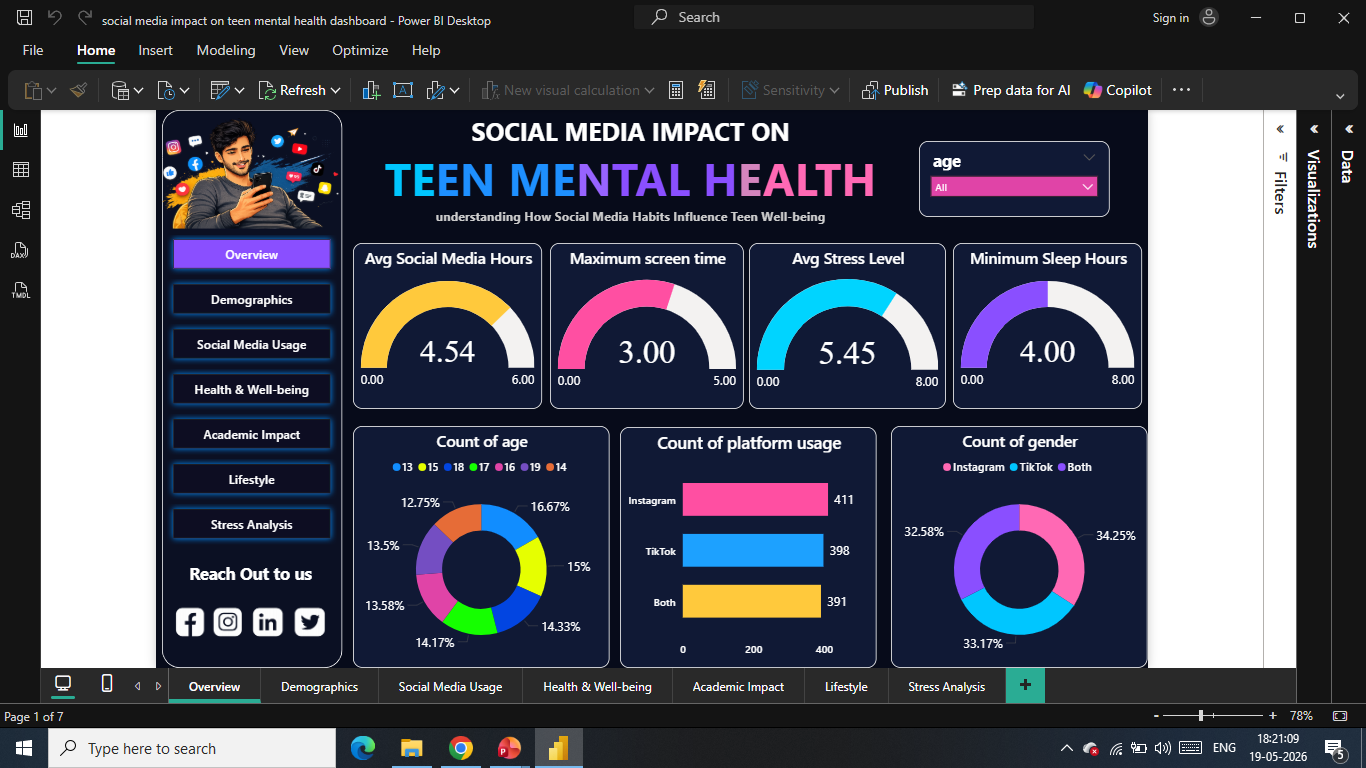

Layout of this report page (visuals, bound fields, positions):
{"tool":"powerbi","page":{"name":"Overview","canvas":[1280,720],"ordinal":0},"visuals":[{"type":"shape","box":[7.2,0,232.8,720],"z":0},{"type":"pageNavigator","box":[14.5,159,219.8,403.4],"z":1000},{"type":"textbox","box":[240,0,744.6,157.6],"z":2000},{"type":"gauge","title":"Maximum screen time","fields":{"Y":["Max(Teen_Mental_Health_Dataset.screen_time_before_sleep)"]},"box":[508.9,172,250.1,214],"z":3000},{"type":"gauge","title":"Avg Social Media Hours","fields":{"Y":["Avg(Teen_Mental_Health_Dataset.daily_social_media_hours)"]},"box":[254.5,172,244.3,214],"z":4000},{"type":"gauge","title":"Minimum Sleep Hours","fields":{"Y":["Min(Teen_Mental_Health_Dataset.sleep_hours)"]},"box":[1028,172,244.3,214],"z":5000},{"type":"donutChart","title":"Count of age","fields":{"Category":["Teen_Mental_Health_Dataset.age"],"Y":["CountNonNull(Teen_Mental_Health_Dataset.age)"]},"box":[254.5,407.7,331.1,312.3],"z":6000},{"type":"image","box":[7.2,0,231.3,159],"z":7000},{"type":"image","box":[7.2,614.5,232.8,91.1],"z":8000},{"type":"textbox","box":[24.6,578.3,195.2,47.7],"z":9000},{"type":"gauge","fields":{"Y":["Teen_Mental_Health_Dataset.Avg Stress Level"]},"box":[764.8,172,254.5,214],"z":10000},{"type":"donutChart","title":"Count of gender ","fields":{"Category":["Teen_Mental_Health_Dataset.platform_usage"],"Y":["CountNonNull(Teen_Mental_Health_Dataset.platform_usage)"]},"box":[948.4,407.7,331.1,312.3],"z":11000},{"type":"clusteredBarChart","title":"Count of platform usage ","fields":{"Category":["Teen_Mental_Health_Dataset.platform_usage"],"Y":["CountNonNull(Teen_Mental_Health_Dataset.platform_usage)"]},"box":[598.6,409.2,331.1,310.8],"z":12000},{"type":"slicer","fields":{"Values":["Teen_Mental_Health_Dataset.age"]},"box":[984.6,40.5,245.8,98.3],"z":13000}]}

Visuals, with their boxes on the page's 1280x720 design canvas (x1, y1, x2, y2). These are canvas units, not pixel positions in the 1366x768 screenshot, which may show the page scaled, cropped or inside an application window:
shape: l=7, t=0, r=240, b=720
pageNavigator: l=14, t=159, r=234, b=562
textbox: l=240, t=0, r=985, b=158
"Maximum screen time" gauge: l=509, t=172, r=759, b=386
"Avg Social Media Hours" gauge: l=254, t=172, r=499, b=386
"Minimum Sleep Hours" gauge: l=1028, t=172, r=1272, b=386
"Count of age" donutChart: l=254, t=408, r=586, b=720
image: l=7, t=0, r=238, b=159
image: l=7, t=614, r=240, b=706
textbox: l=25, t=578, r=220, b=626
gauge - Teen_Mental_Health_Dataset.Avg Stress Level: l=765, t=172, r=1019, b=386
"Count of gender " donutChart: l=948, t=408, r=1280, b=720
"Count of platform usage " clusteredBarChart: l=599, t=409, r=930, b=720
slicer - Teen_Mental_Health_Dataset.age: l=985, t=40, r=1230, b=139
